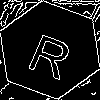R: (25, 25, 79, 80)
